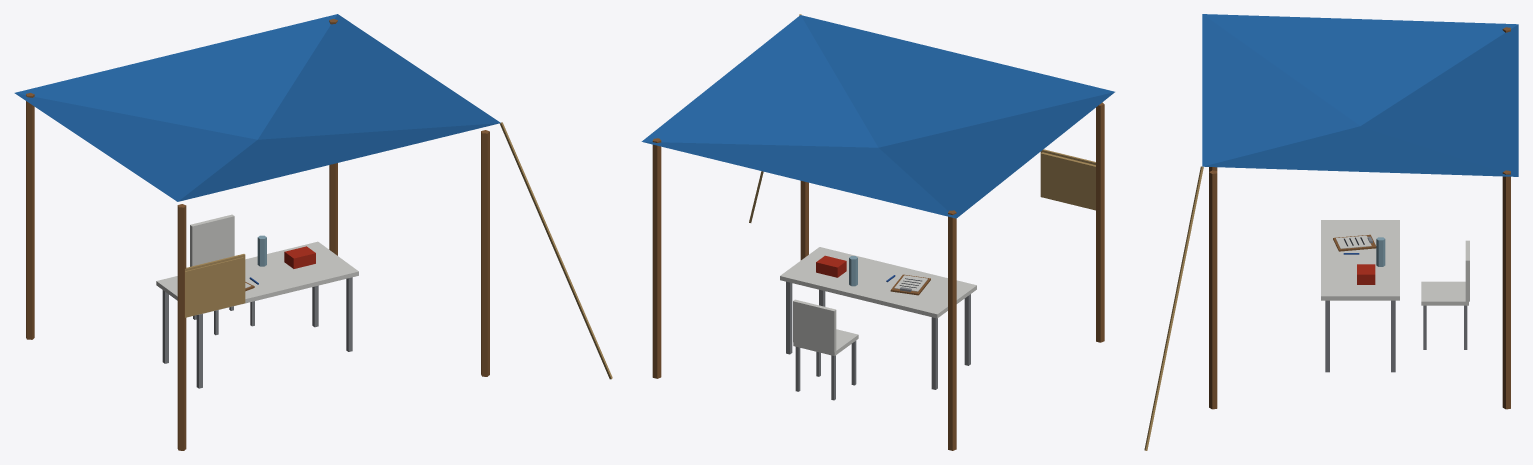
File: prop_tarp-table.ccd01707261f.glb
3 renders of one model, left to right at view 1: azimuth 30°, elevation 25°; view 2: azimuth 150°, elevation 25°; view 3: azimuth 270°, elevation 25°, orthographic. The views are drawn at different scales.
Parts seen in each view (by area): view 1: body; view 2: body; view 3: body.
Part boxes in pixels (x1,y1,x2,y2): body: [14, 14, 612, 450]; body: [641, 14, 1114, 450]; body: [1144, 14, 1518, 450].
Size of the model in its own units: 4.01 by 2.41 by 3.31.
